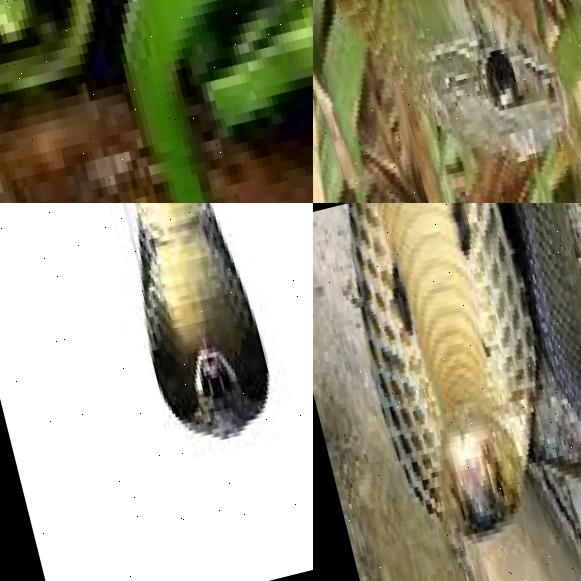snake: (0, 203, 313, 535), (325, 203, 581, 581), (0, 0, 313, 203), (313, 0, 581, 203)
